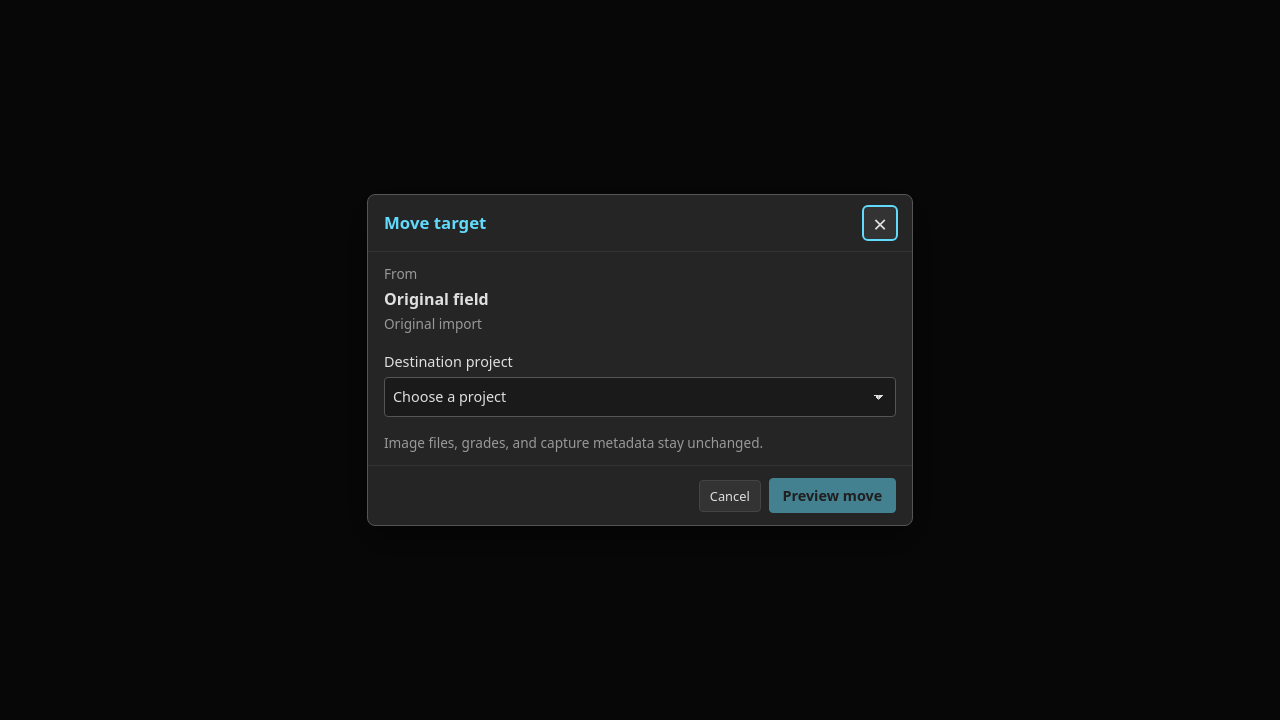
Test: OrganizationDialog › moving a whole target › moves a target to a new project by name
The image size is (1280, 720).
Select "New project..." in the dropdown labelled "Destination project" at (640, 397), box [384,377,896,417]
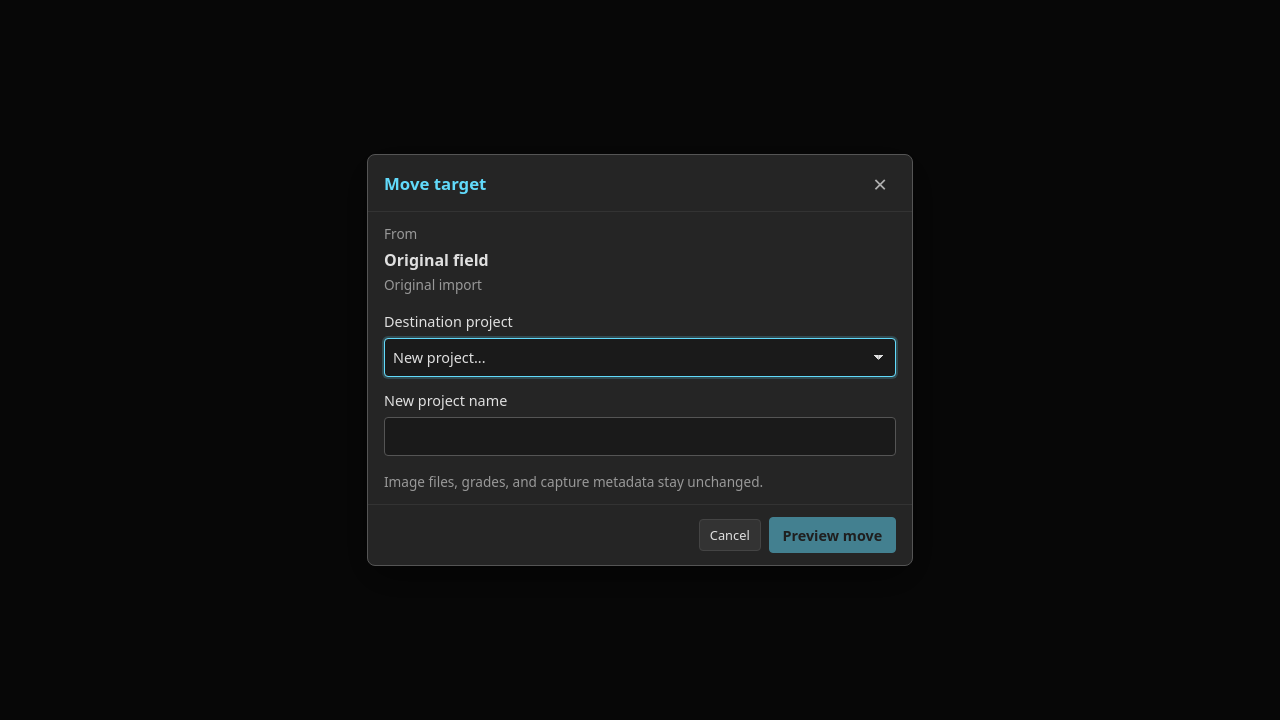
Expected: the button "Preview move" is disabled, [769,518,896,553]
Type "  Spring campaign " into the field labelled "New project name" at (640, 436), box [384,416,896,456]
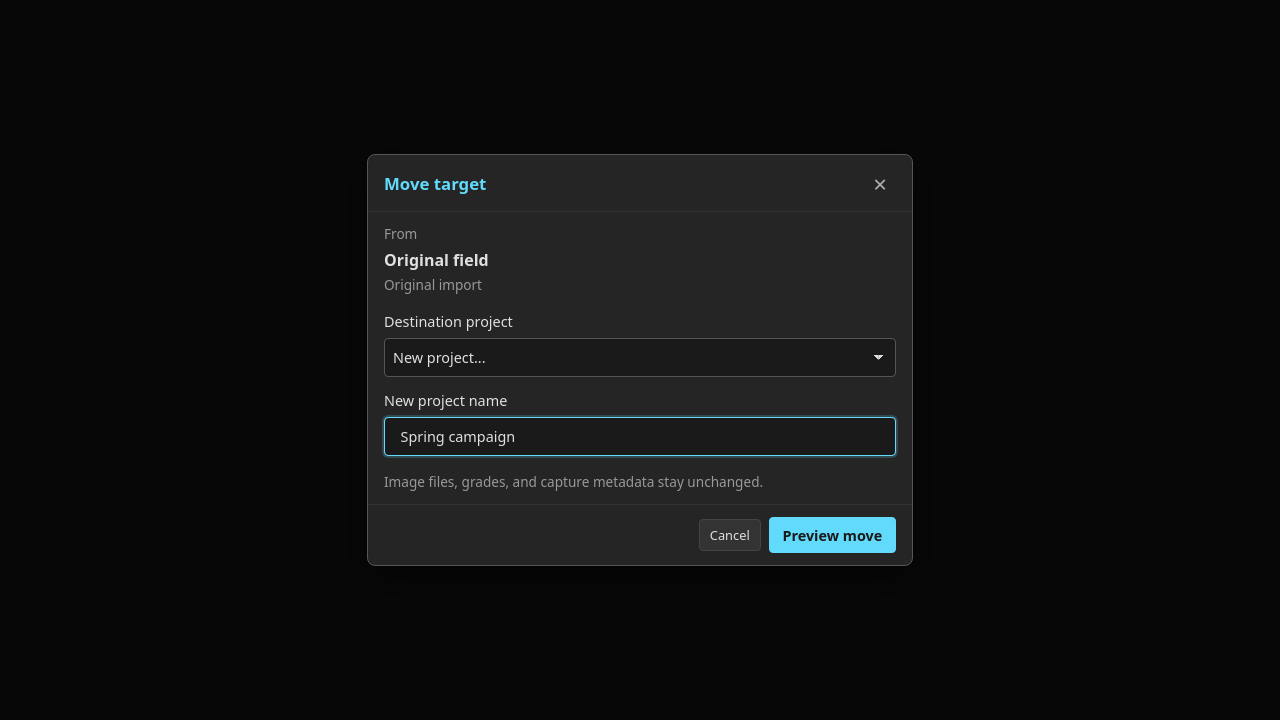
Click the button "Preview move" at (832, 535), box [769,518,896,553]
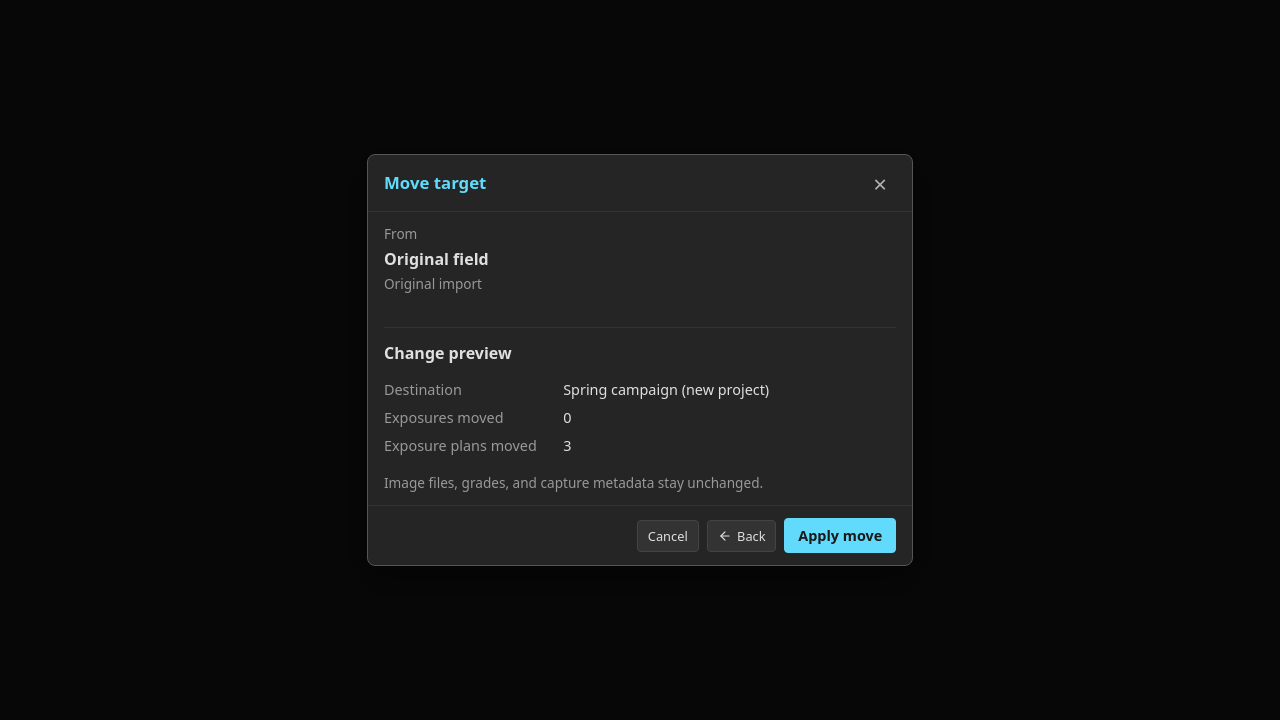
Expected: the element "Change preview" does not show "Exposure templates", [384,327,896,457]
Expected: the button "Apply move" is shown, [784,518,896,553]
Expected: the element "Change preview" shows "Spring campaign (new project)", [563,380,769,399]
